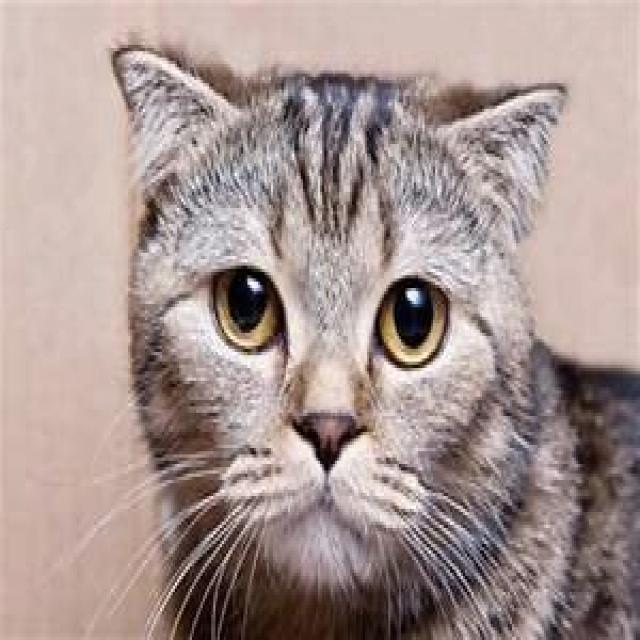KEDI: (116, 37, 632, 640)
